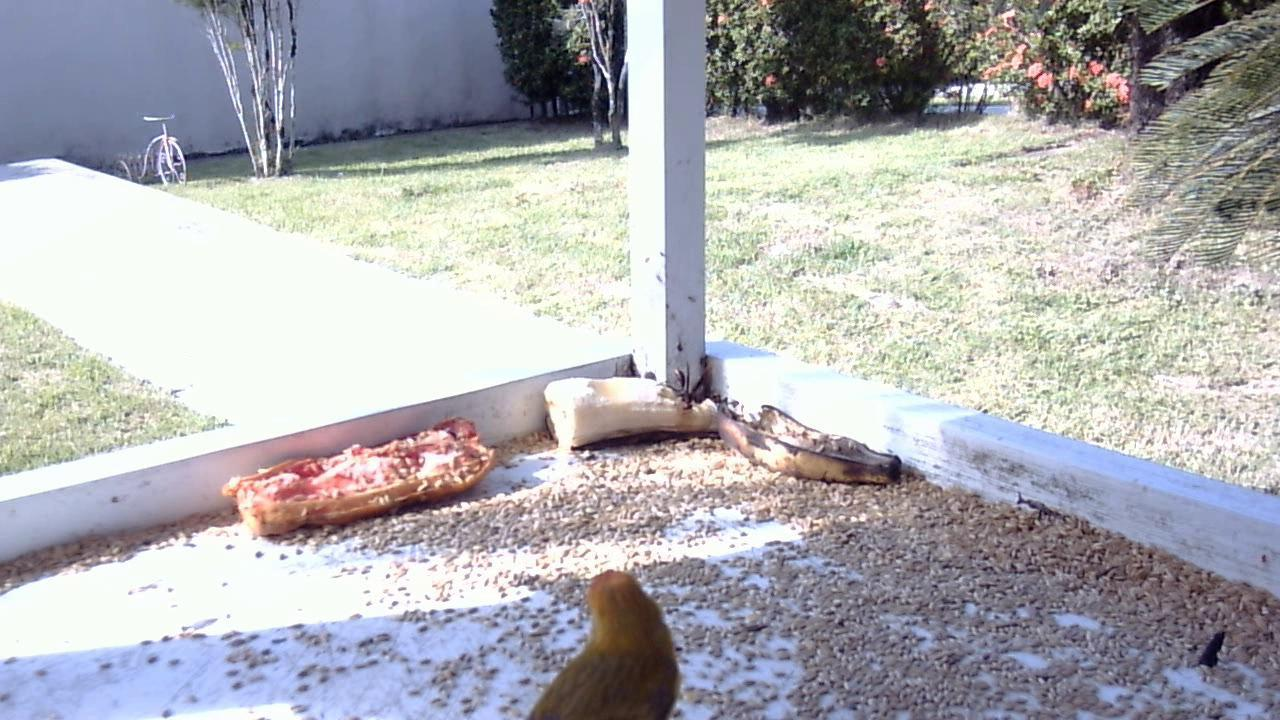canario_do_amazonas: (518, 562, 687, 715)
